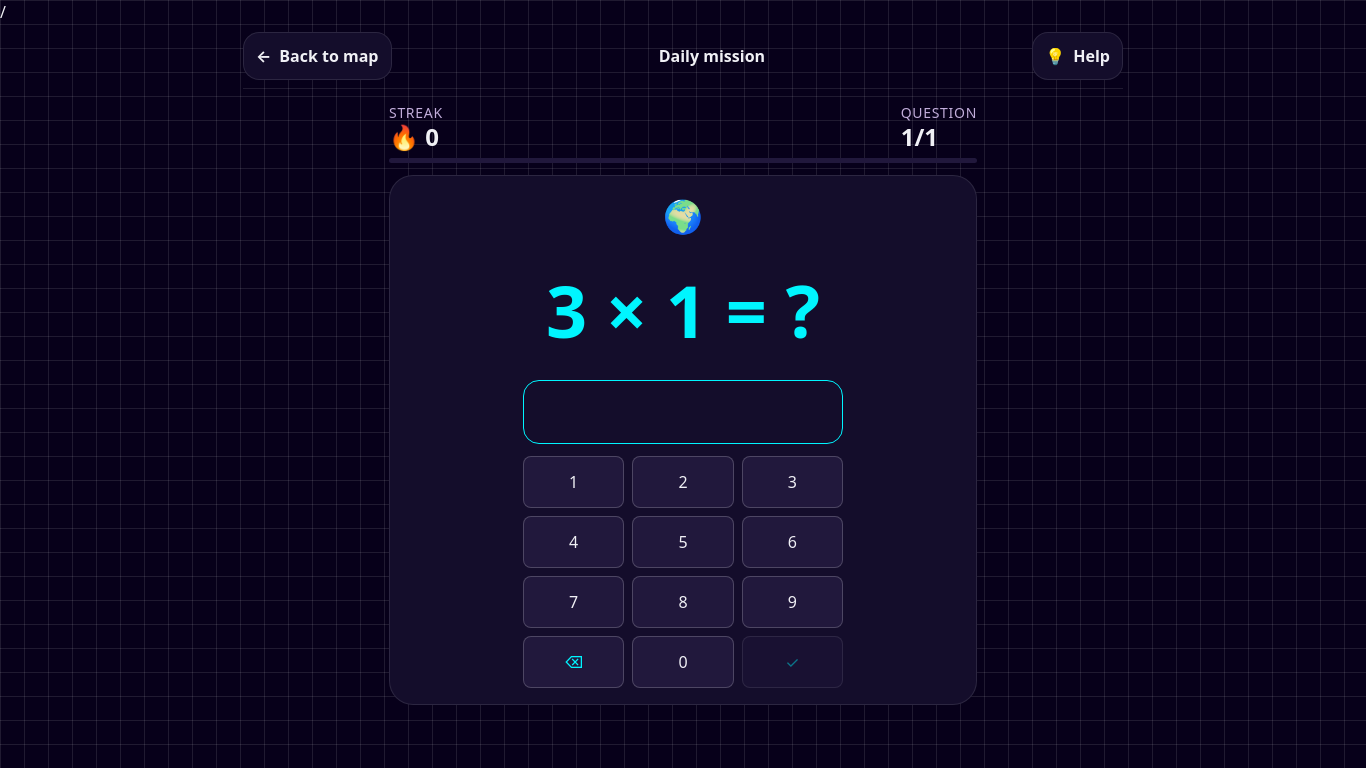
it: DailyPhase › shows strategy only when enabled
Click the button "💡 Help".
click(1078, 56)  # box [1032,32,1123,80]
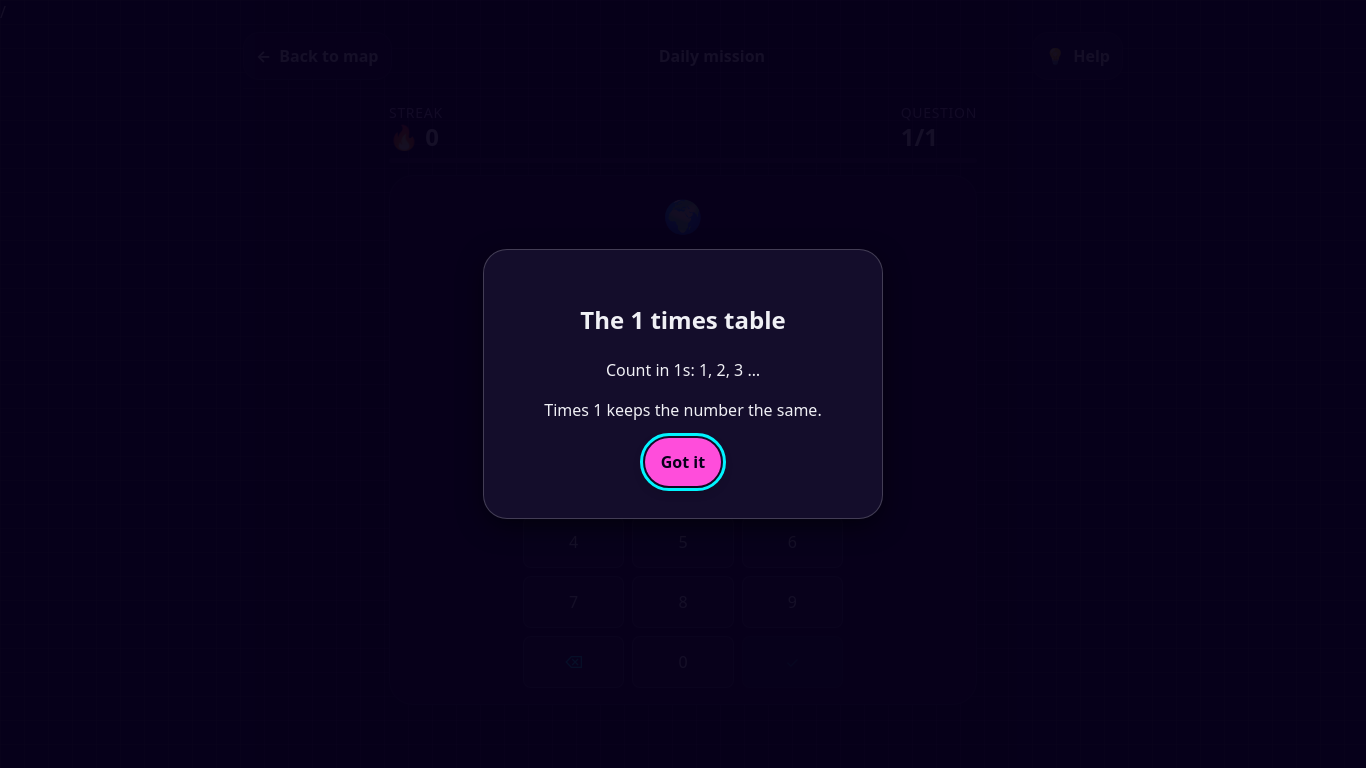
Check: the dialog is shown
Click the button "Got it".
click(683, 462)  # box [645,438,721,486]
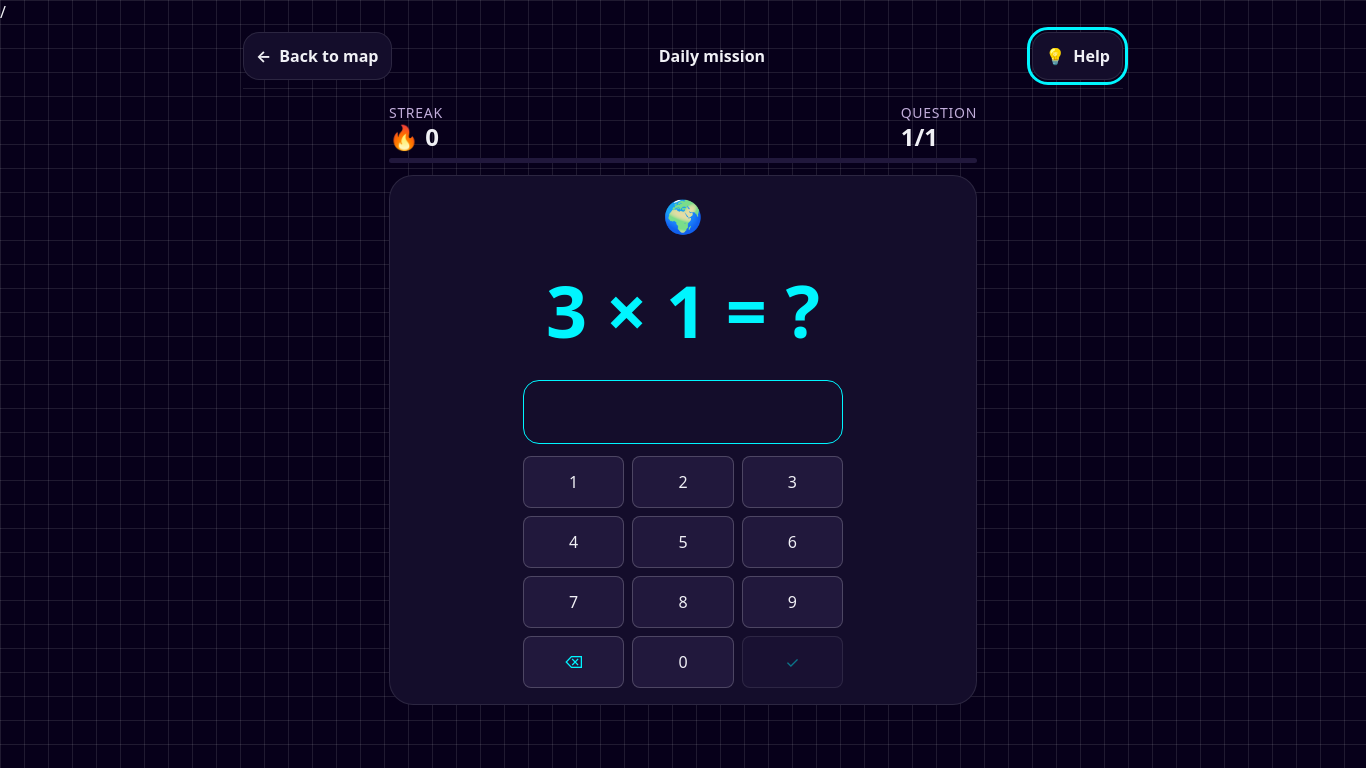
Check: the dialog is gone
